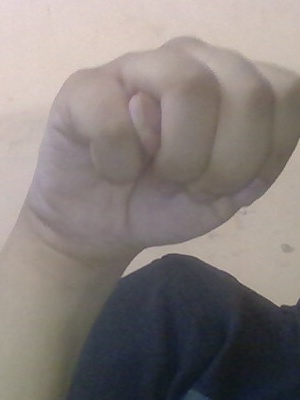M: (28, 34, 300, 262)
